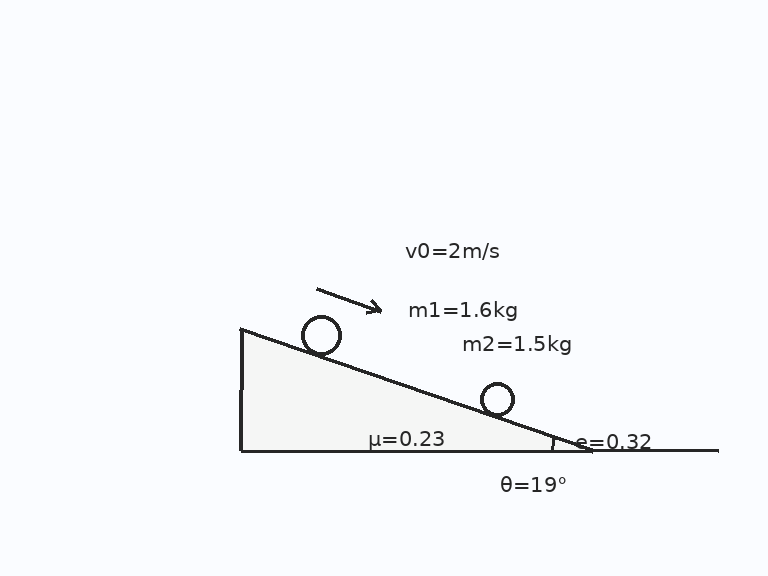ball: (299, 313, 343, 357), (478, 380, 516, 418)
ramp: (238, 327, 594, 452)
